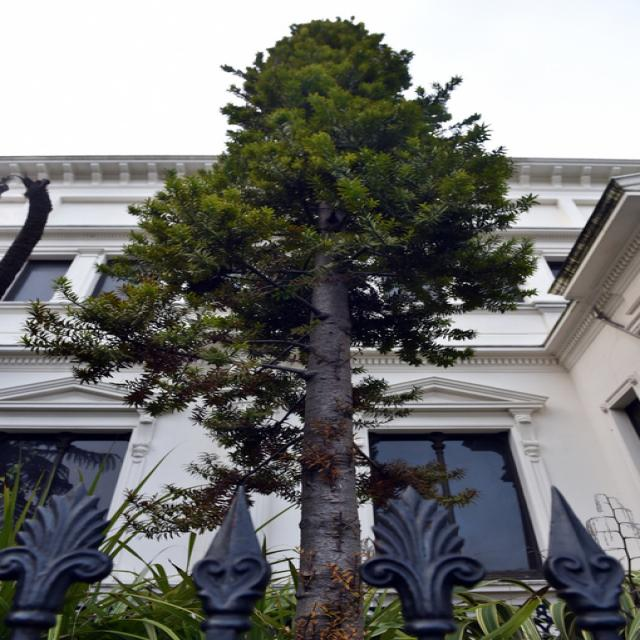Kauri: (103, 20, 541, 482)
